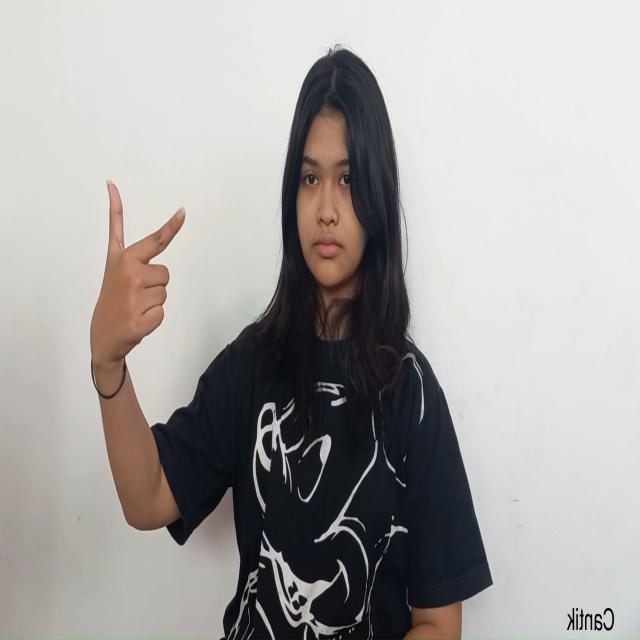Cantik -BISINDO-: (89, 178, 187, 400)
